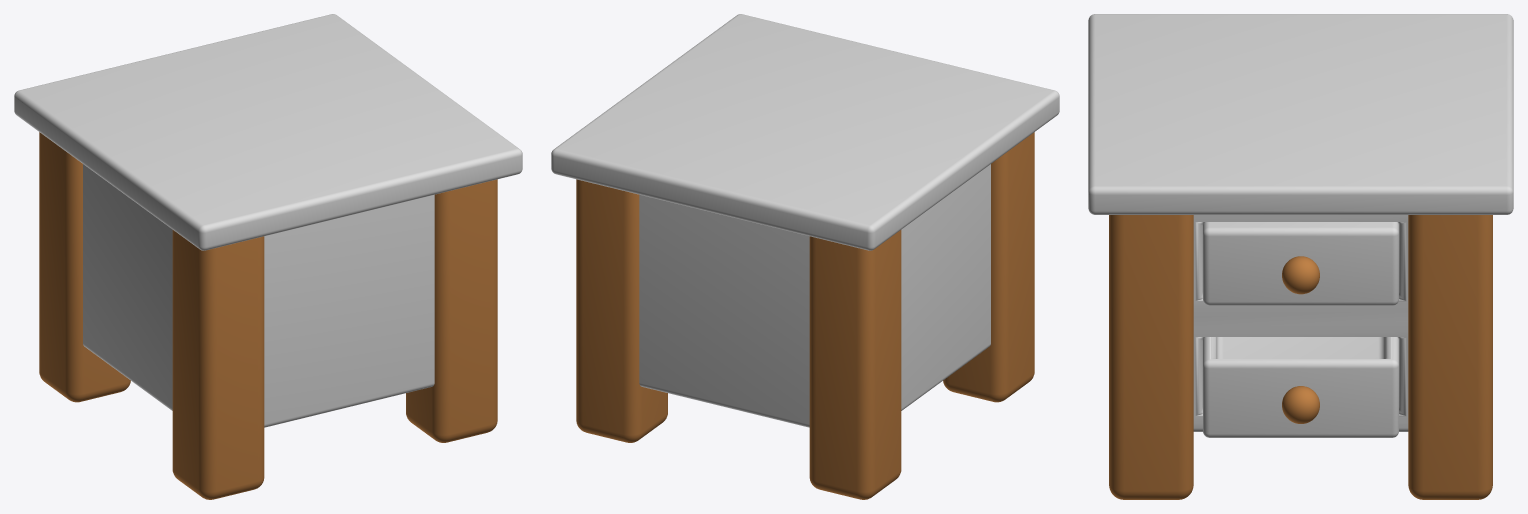
File: bedside_table.obj
3 views of the same model, side by side, from view 1: azimuth 30°, elevation 25°; view 2: azimuth 150°, elevation 25°; view 3: azimuth 270°, elevation 25° (orthographic). The views are drawn at different scales.
Parts seen in each view (by area): view 1: bedside_table; view 2: bedside_table; view 3: bedside_table.
Part boxes in pixels (box(x1,y1,x2,y2)): bedside_table: box(14, 14, 522, 499); bedside_table: box(551, 14, 1059, 499); bedside_table: box(1088, 14, 1513, 499).
Bounding box in the file's own units: 0.7409 × 0.5506 × 0.6564.
